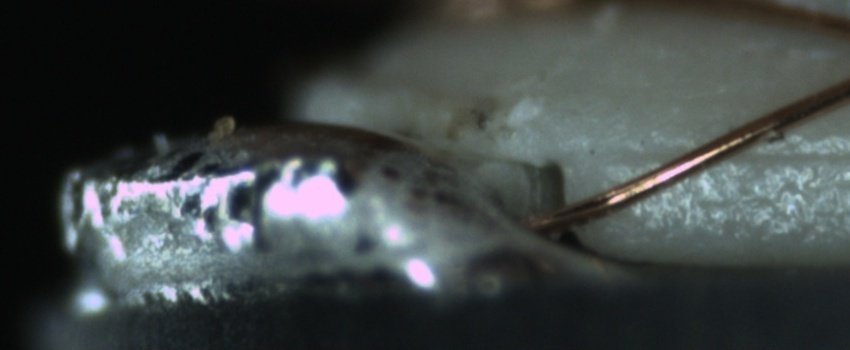DL: (617, 127, 848, 183)
